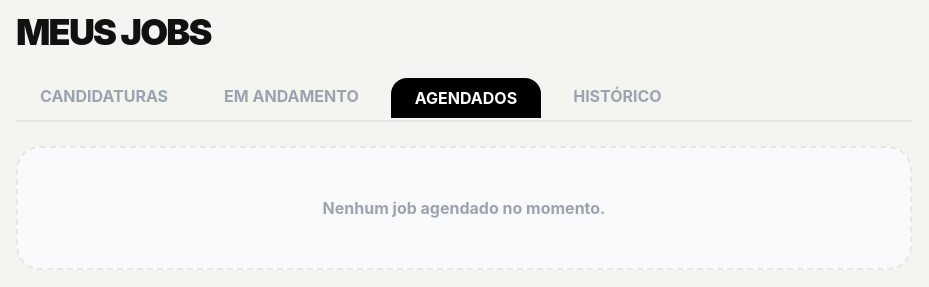
Test: MyJobs - Estado vazio por tab › exibe estado vazio na tab Historico quando nao ha jobs
Click the button "Histórico".
click(617, 96)  # box [549,76,686,116]
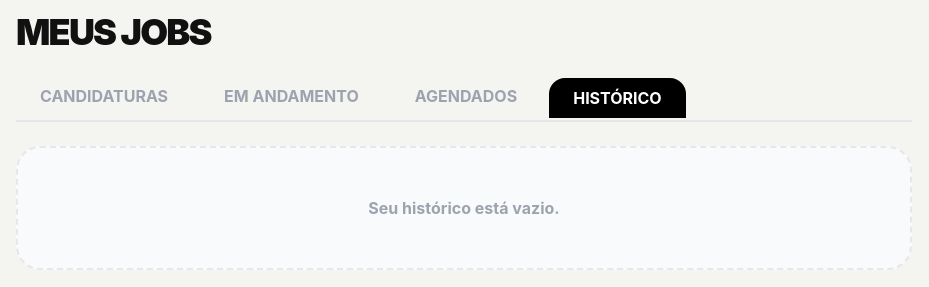
Now the text "Seu histórico está vazio." is shown, box [368,198,560,218]
